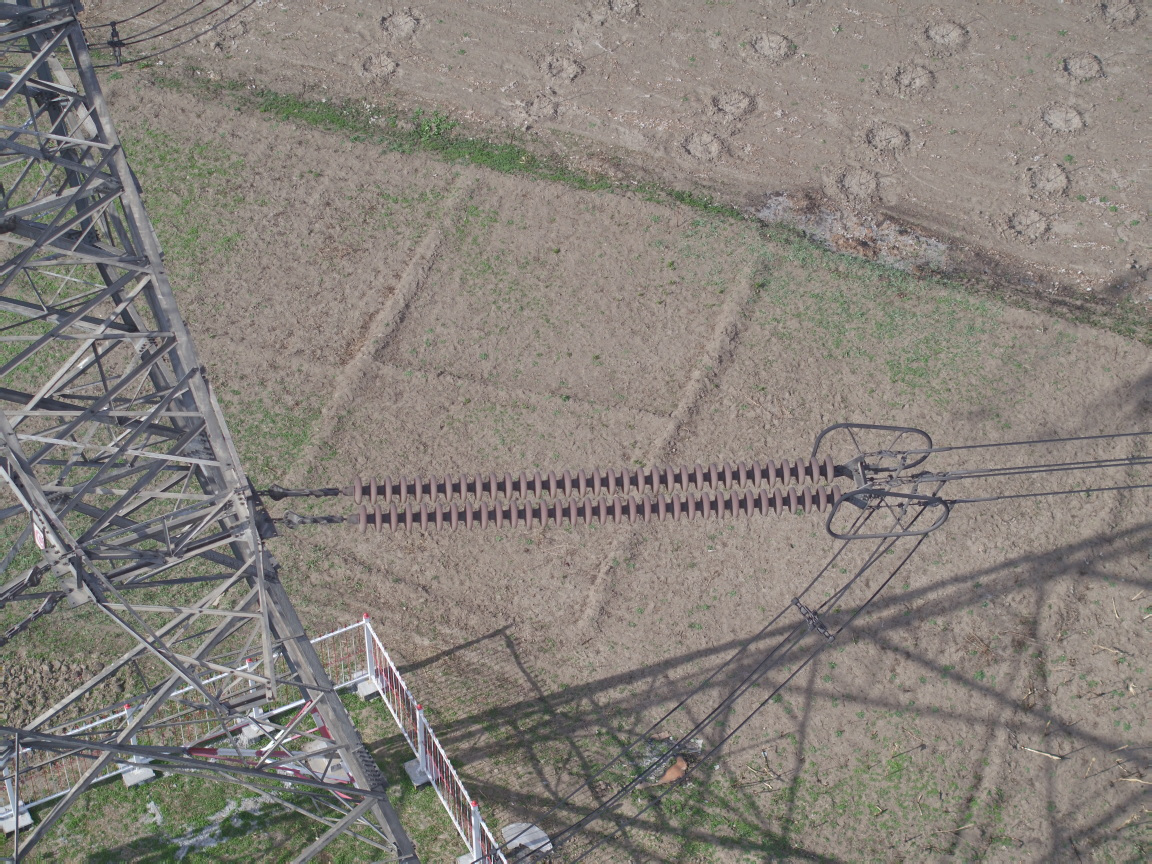insulator: (303, 449, 859, 535)
